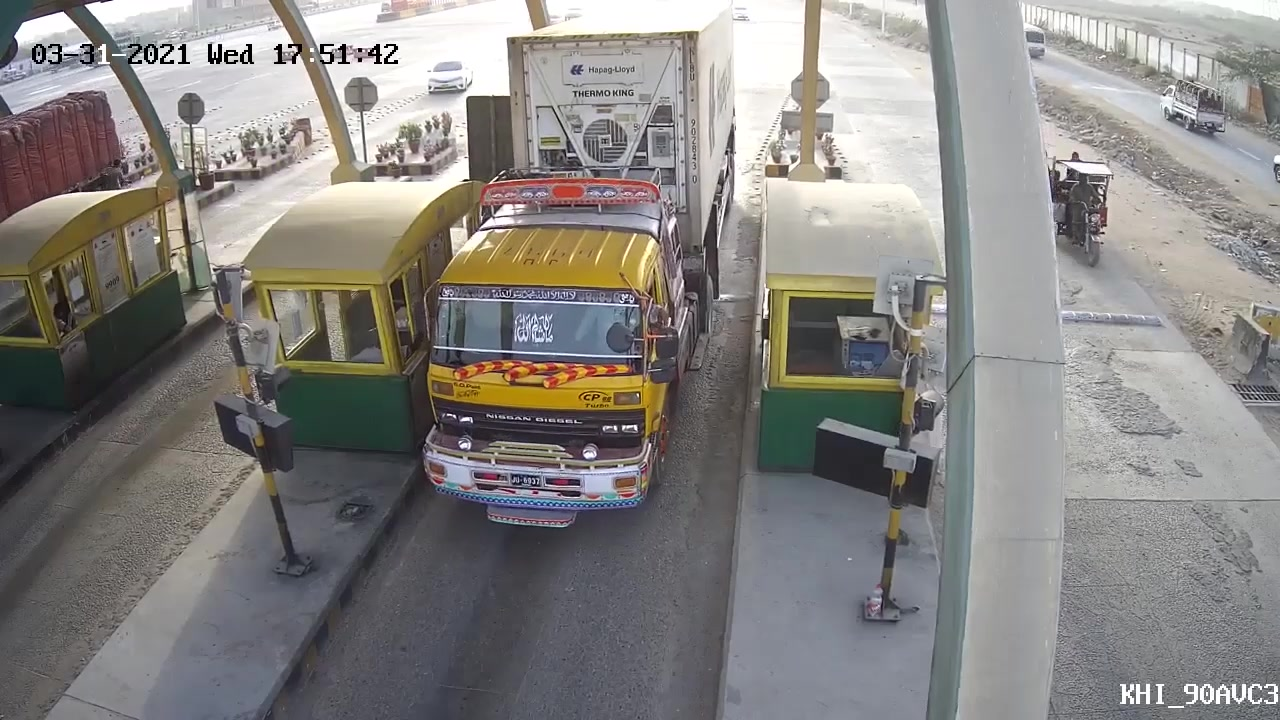F5: (417, 5, 749, 534)
